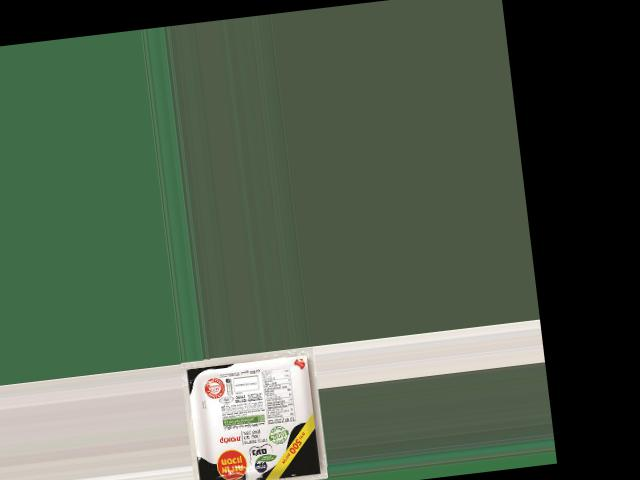cheese: (185, 357, 327, 480)
